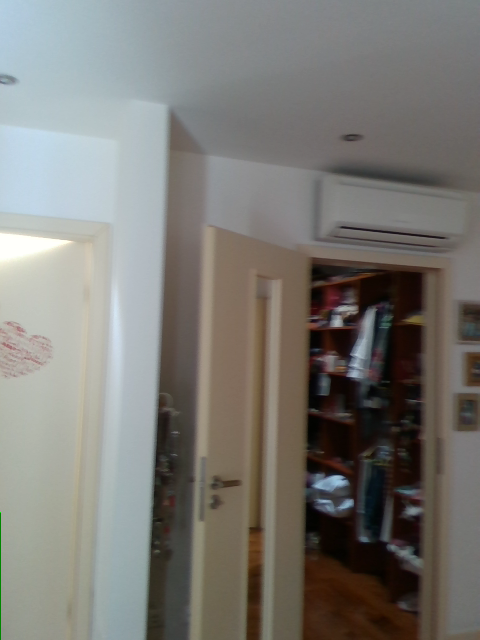open: (186, 232, 454, 639)
